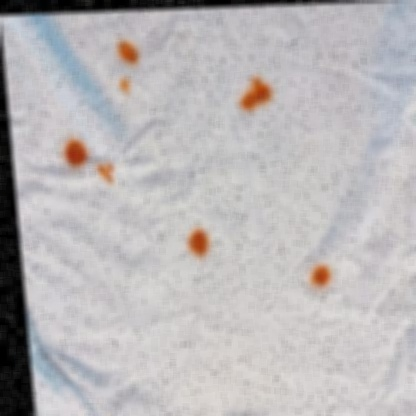kimchi: (240, 76, 280, 113), (112, 38, 144, 68), (187, 226, 213, 260), (302, 267, 338, 291), (65, 140, 85, 170), (98, 162, 116, 185), (119, 79, 134, 96)
